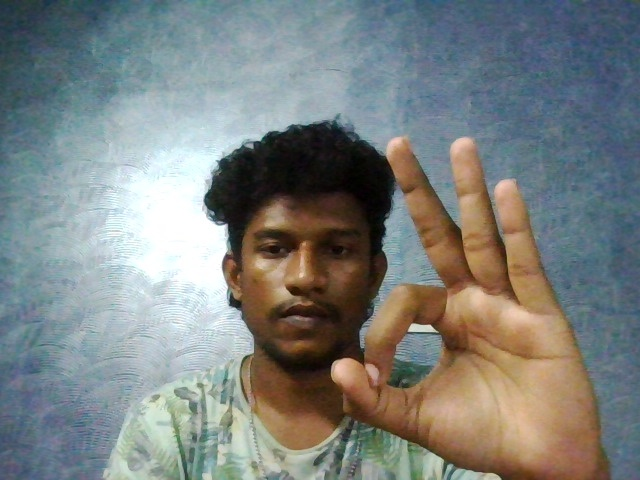good: (243, 120, 624, 480)
